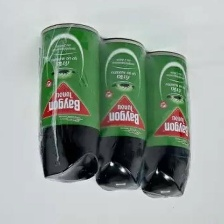aerosol_cans: (35, 21, 103, 186), (92, 34, 150, 194), (138, 48, 194, 202)
